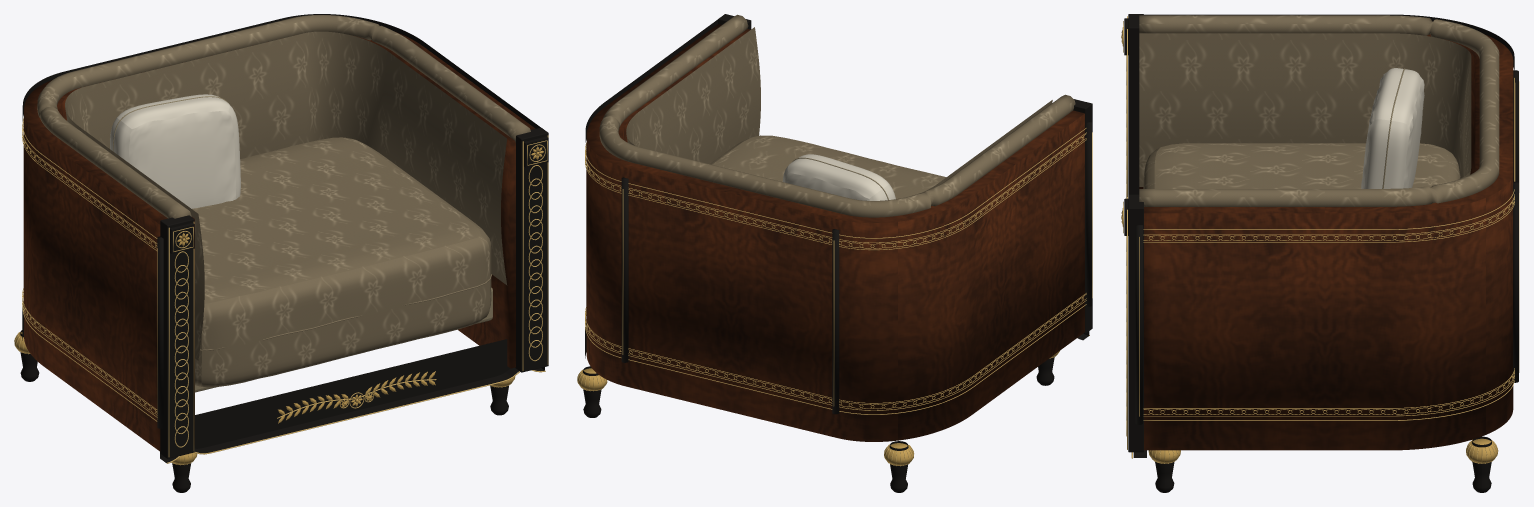
3 renders of one model, left to right at view 1: azimuth 30°, elevation 25°; view 2: azimuth 150°, elevation 25°; view 3: azimuth 270°, elevation 25°, orthographic. The views are drawn at different scales.
Visible parts, largest first — view 1: Nantes armchair | 50377.0 | living-4 web batch; view 2: Nantes armchair | 50377.0 | living-4 web batch; view 3: Nantes armchair | 50377.0 | living-4 web batch.
Part boxes in pixels (x1,y1,x2,y2): Nantes armchair | 50377.0 | living-4 web batch: [14, 14, 548, 492]; Nantes armchair | 50377.0 | living-4 web batch: [577, 14, 1092, 492]; Nantes armchair | 50377.0 | living-4 web batch: [1121, 14, 1519, 492].
Bounding box in the file's own units: 1.09 × 0.78 × 0.92.
7 materials, 3 textured.
